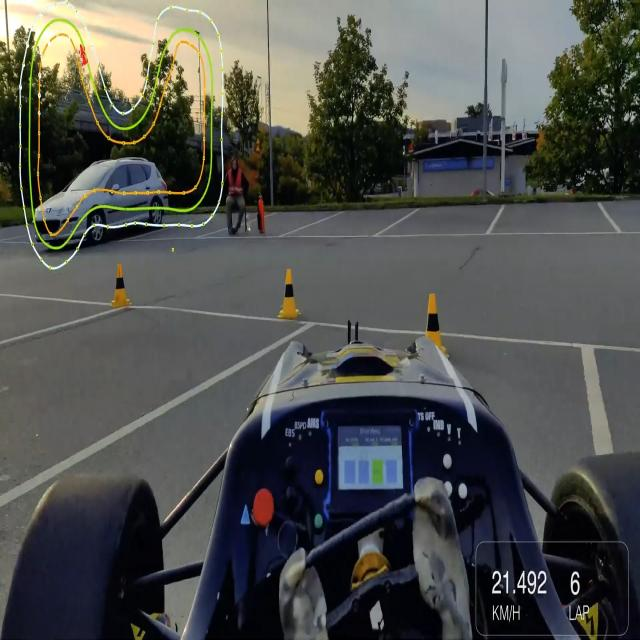yellow_cone: (419, 294, 450, 366), (279, 269, 300, 318), (110, 265, 131, 308)
